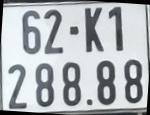-: (69, 27, 78, 34)
.: (87, 100, 92, 105)
1: (109, 7, 124, 51)
2: (44, 9, 62, 53), (8, 65, 26, 109)
6: (22, 10, 41, 54)
8: (36, 63, 54, 107), (97, 61, 115, 105), (124, 59, 142, 102), (63, 63, 81, 105)
K: (85, 9, 102, 52)
